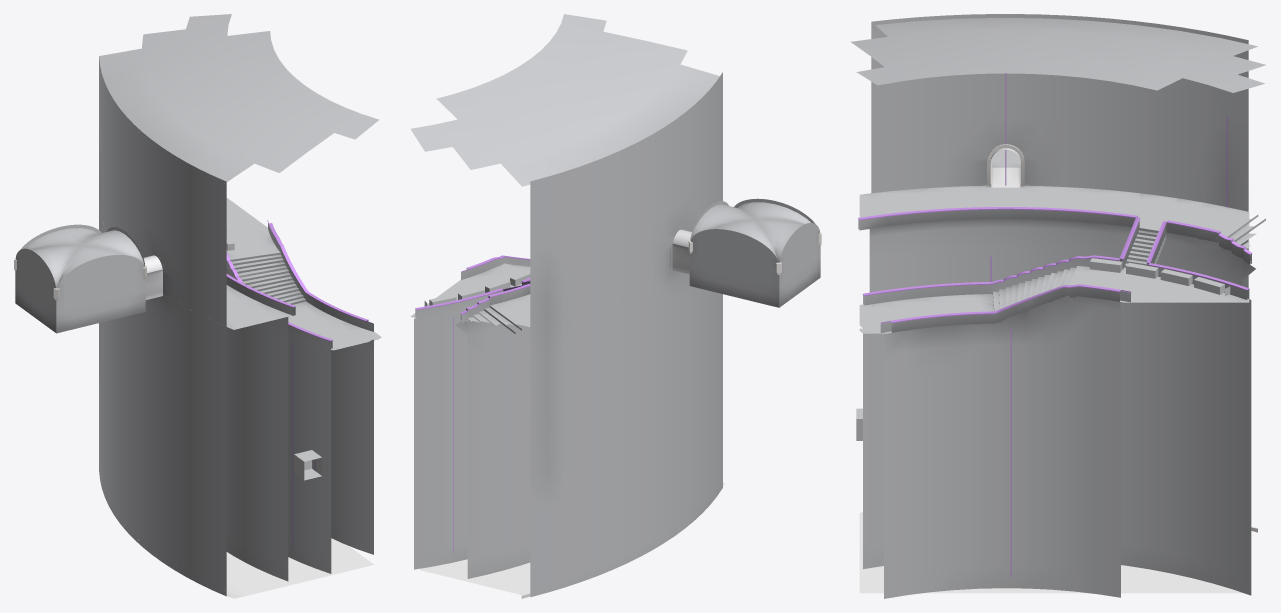
Rendered from crypt_10_ab.glb.
3 renders of one model, left to right at view 1: azimuth 30°, elevation 25°; view 2: azimuth 150°, elevation 25°; view 3: azimuth 270°, elevation 25°, orthographic. The views are drawn at different scales.
Parts seen in each view (by area): view 1: crypt_10_ab; view 2: crypt_10_ab; view 3: crypt_10_ab.
Boxes of the visible parts, <box> form: crypt_10_ab: <box>14,14,381,598</box>; crypt_10_ab: <box>410,14,821,598</box>; crypt_10_ab: <box>851,14,1265,598</box>.
Size of the model in its own units: 33.65 by 46.75 by 34.2.
